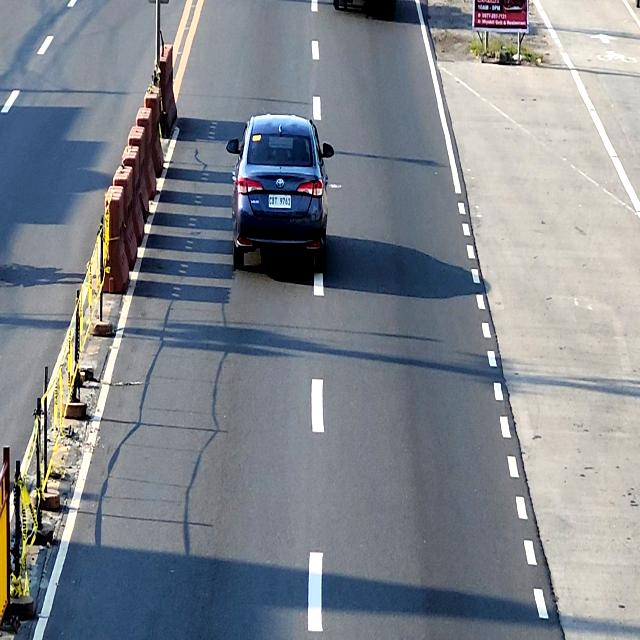Car: (227, 113, 334, 272)
License-Plate: (269, 194, 292, 208)
